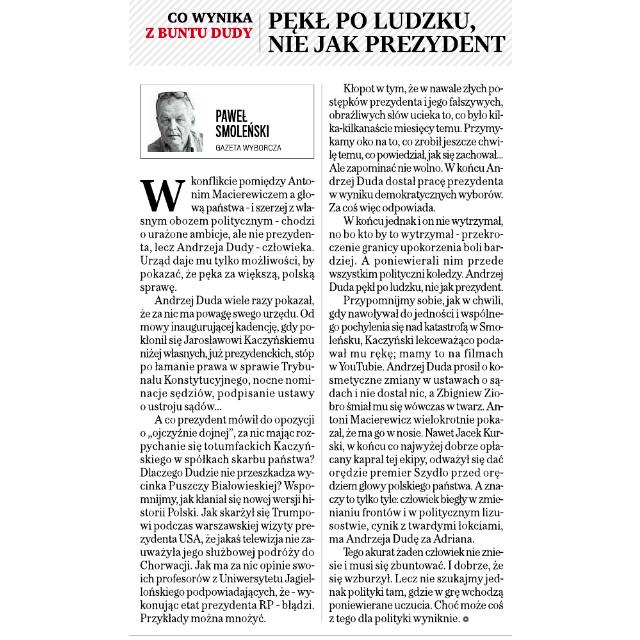author: (212, 106, 272, 140)
body: (325, 79, 511, 626), (134, 172, 316, 626)
title: (142, 5, 506, 59)
